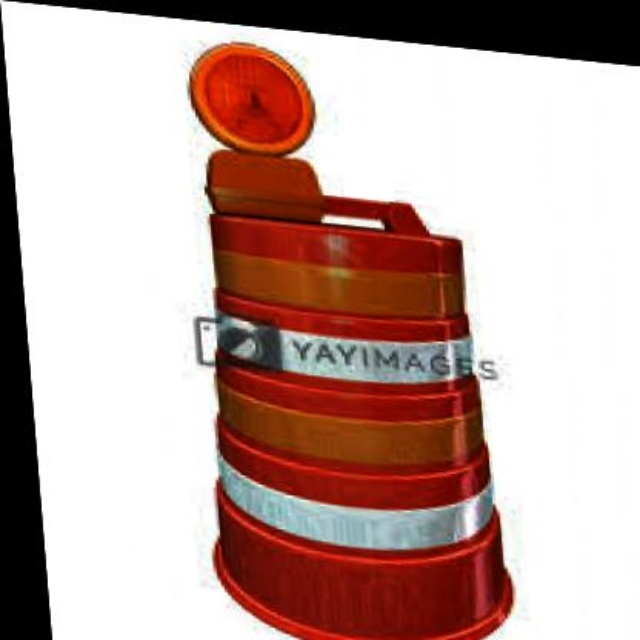obstacle: (182, 174, 521, 640)
